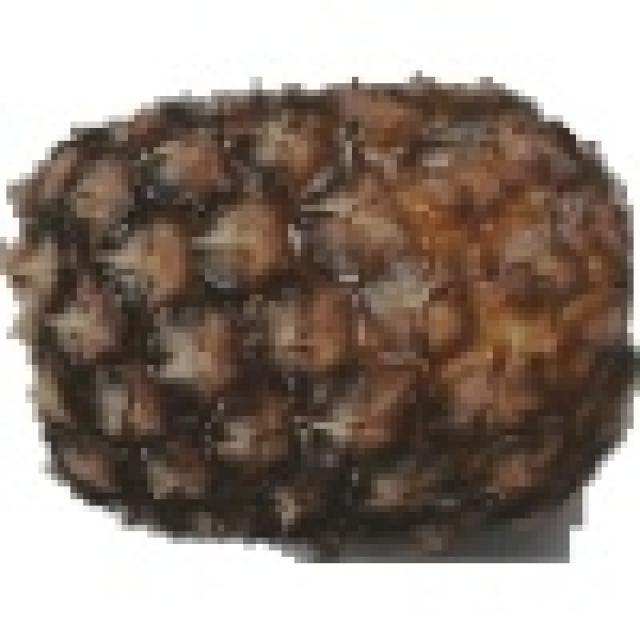pineapple: (6, 70, 621, 544)
